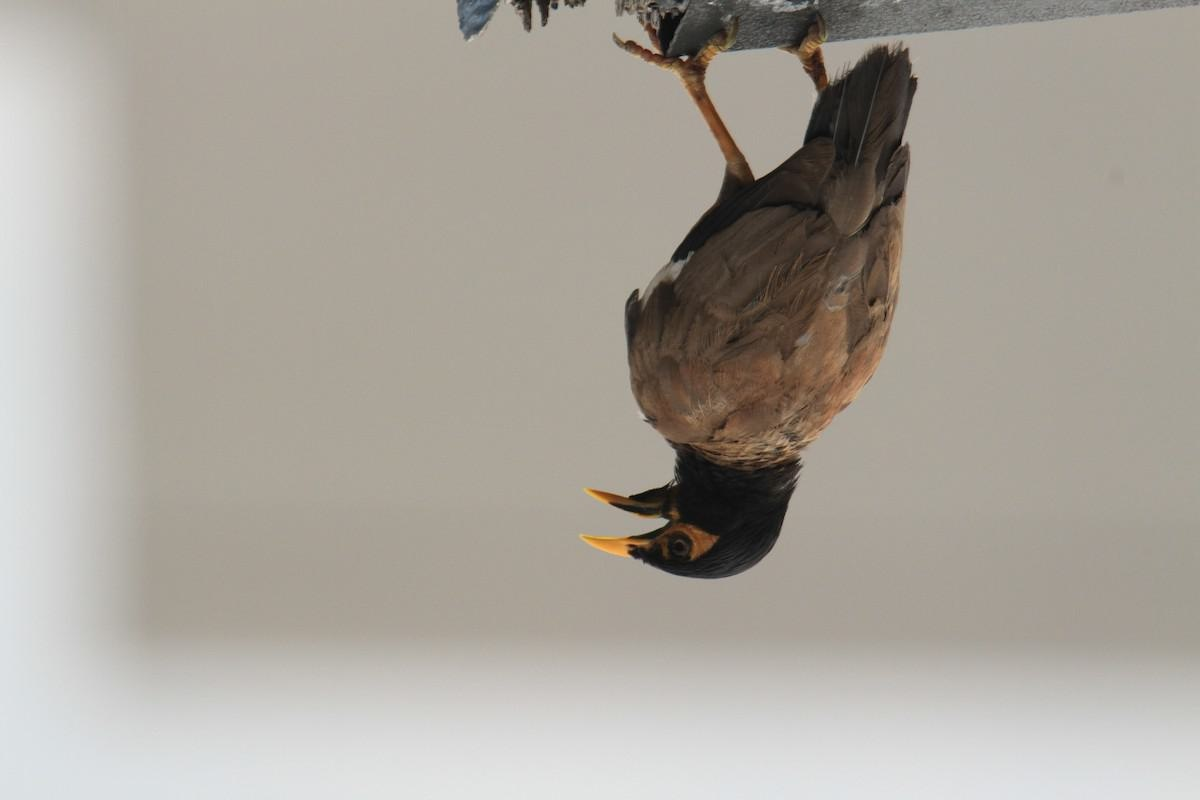myna: (578, 14, 865, 597)
